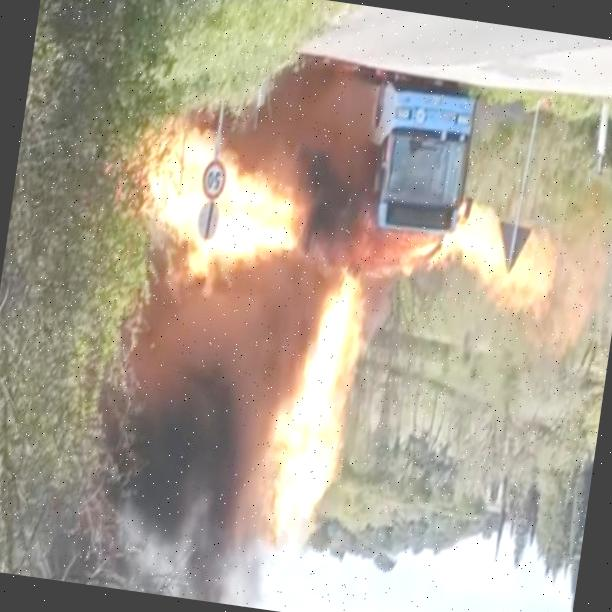smoke: (93, 285, 293, 579), (325, 71, 389, 173)
